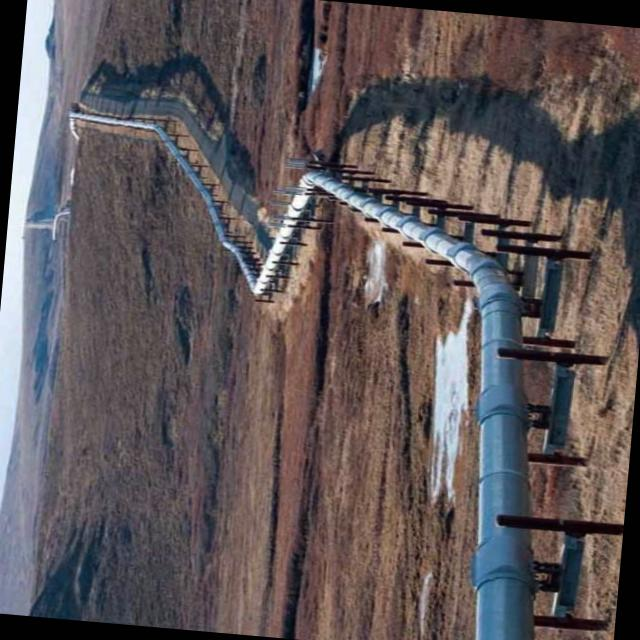gas: (72, 108, 529, 640)
